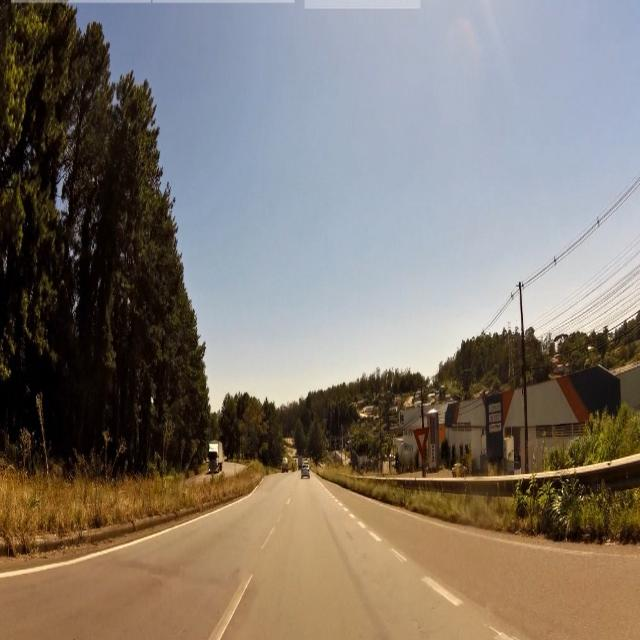R-2: (414, 428, 431, 460)
